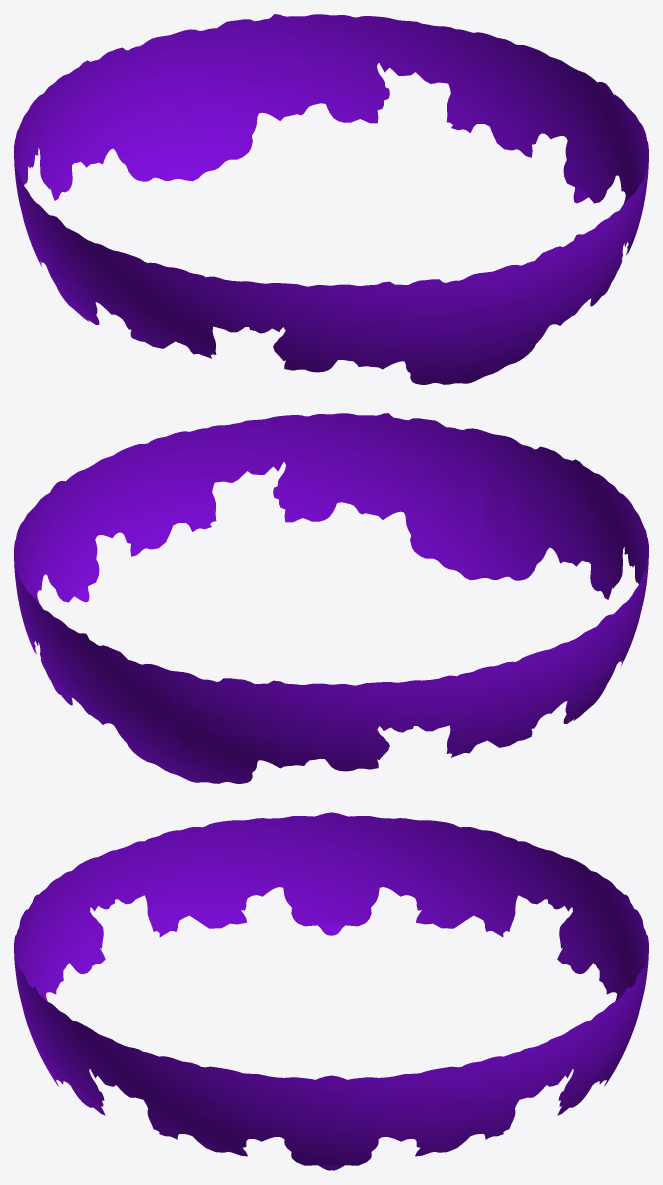
File: curved clouds.fbx
The picture shows the model from 3 angles, top to bottom: view 1: azimuth 30°, elevation 25°; view 2: azimuth 150°, elevation 25°; view 3: azimuth 270°, elevation 25°; orthographic projection.
Visible parts, largest first — view 1: Clouds; view 2: Clouds; view 3: Clouds.
Part boxes in pixels (box(x1,y1,x2,y2)): Clouds: box(14, 14, 648, 384); Clouds: box(14, 413, 648, 783); Clouds: box(14, 812, 648, 1170).
Size of the model in its own units: 1.94 by 0.4552 by 1.98.
